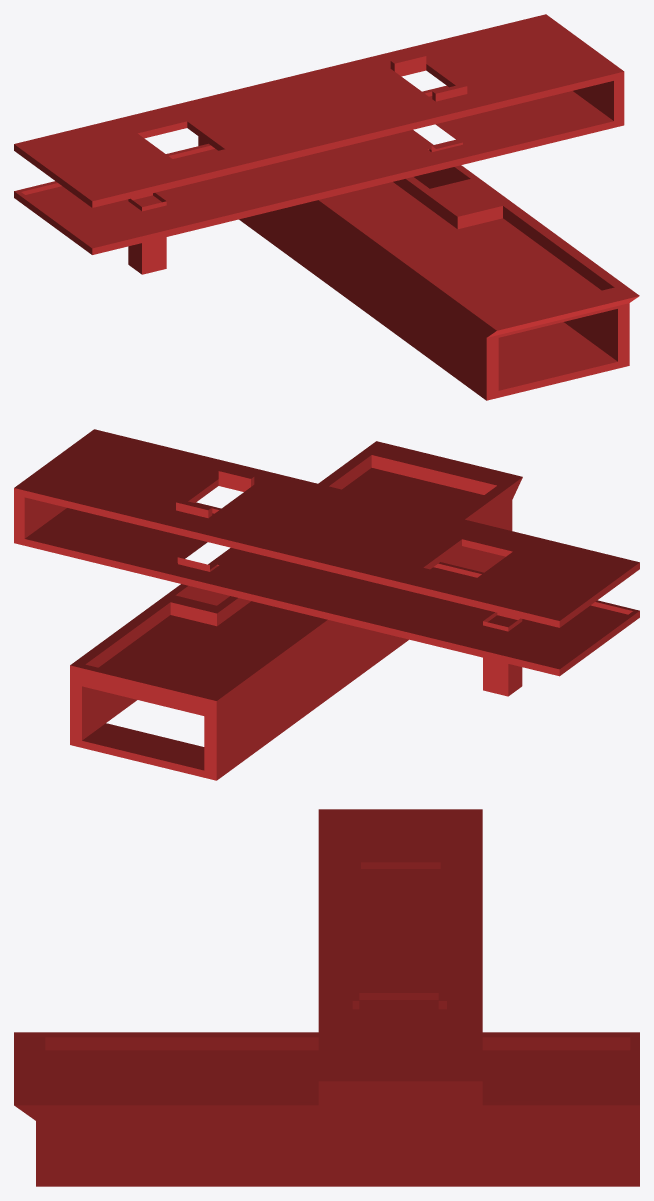
Rendered from hotl_exterior.FBX.
The picture shows the model from 3 angles, top to bottom: view 1: azimuth 30°, elevation 25°; view 2: azimuth 150°, elevation 25°; view 3: azimuth 270°, elevation 25°; orthographic projection. The views are drawn at different scales.
Parts seen in each view (by area): view 1: exterior; view 2: exterior; view 3: exterior.
Part boxes in pixels (box(x1,y1,x2,y2)): exterior: box(14, 14, 639, 400); exterior: box(14, 429, 639, 780); exterior: box(14, 809, 639, 1186).
Bounding box in the file's own units: 45.32 × 13.99 × 44.08.
